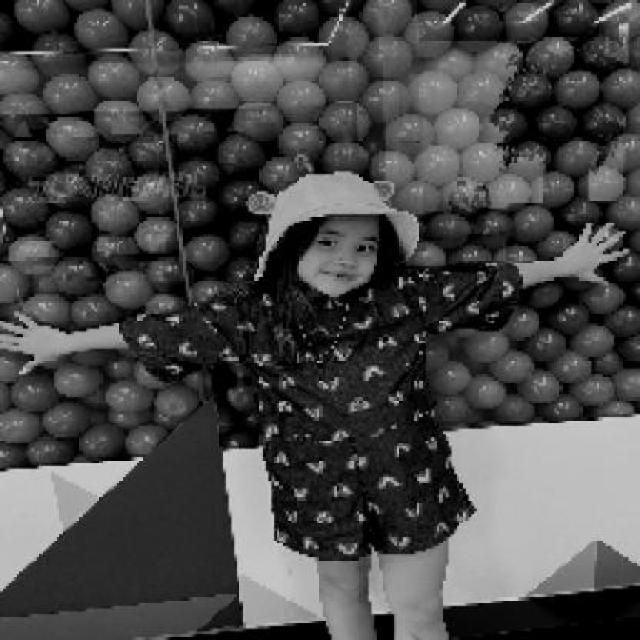child: (2, 172, 635, 638)
